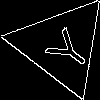Y: (36, 20, 96, 76)
